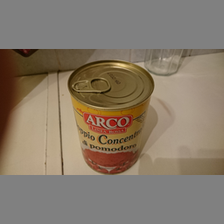tomato_sauce: (67, 59, 156, 175)
